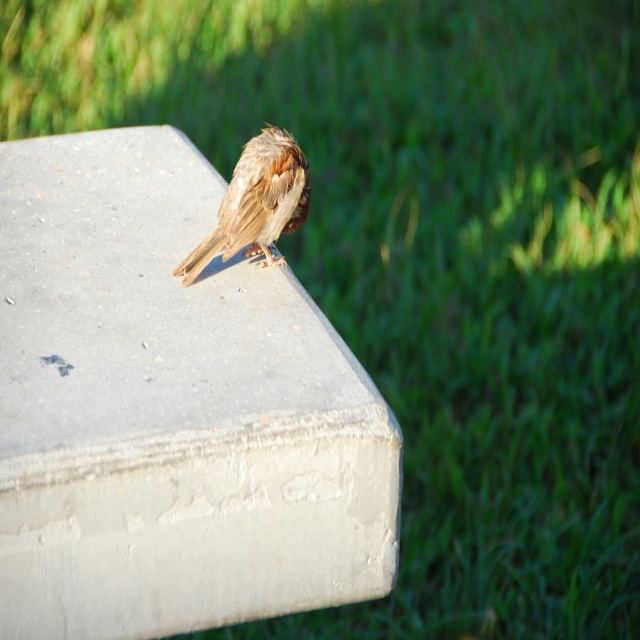Sparrow: (171, 122, 316, 283)
